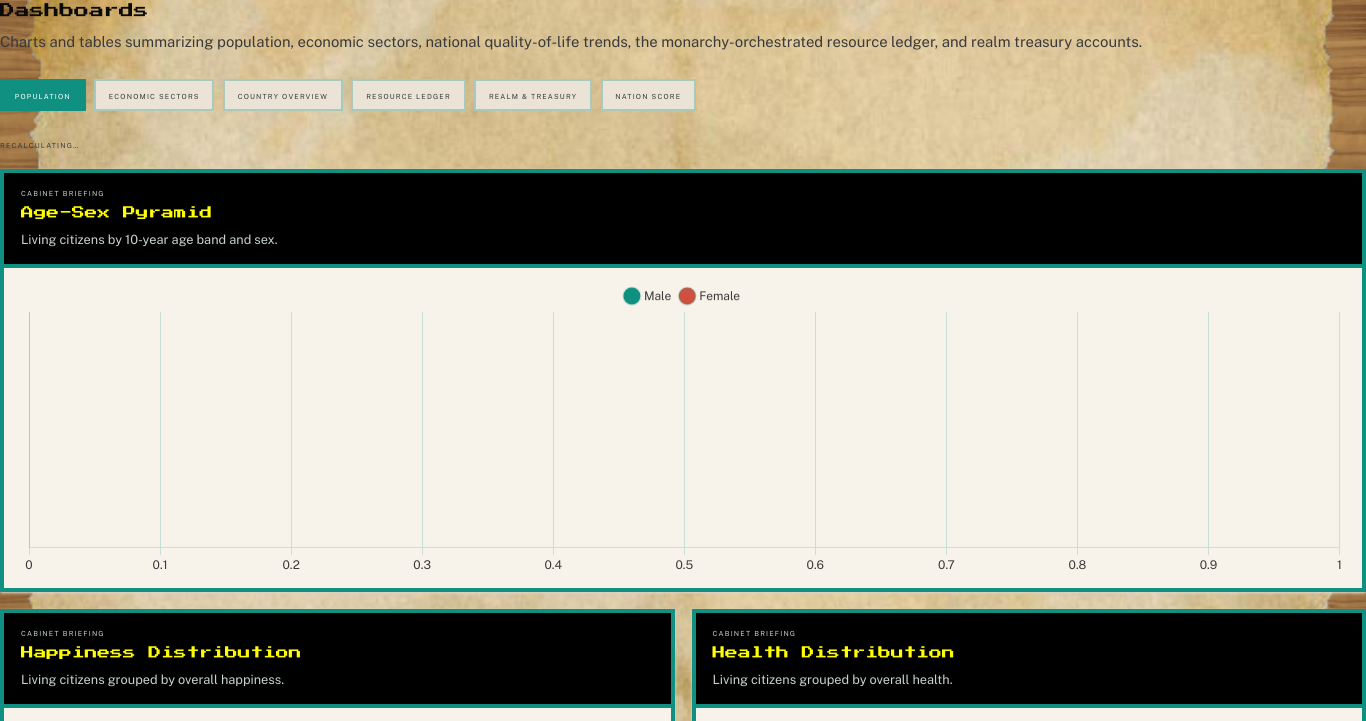
DashboardsPage › switches to the country overview dashboard on tab click
Click the button "Country Overview" at {"x": 283, "y": 95}, box 223,79 -> 343,111
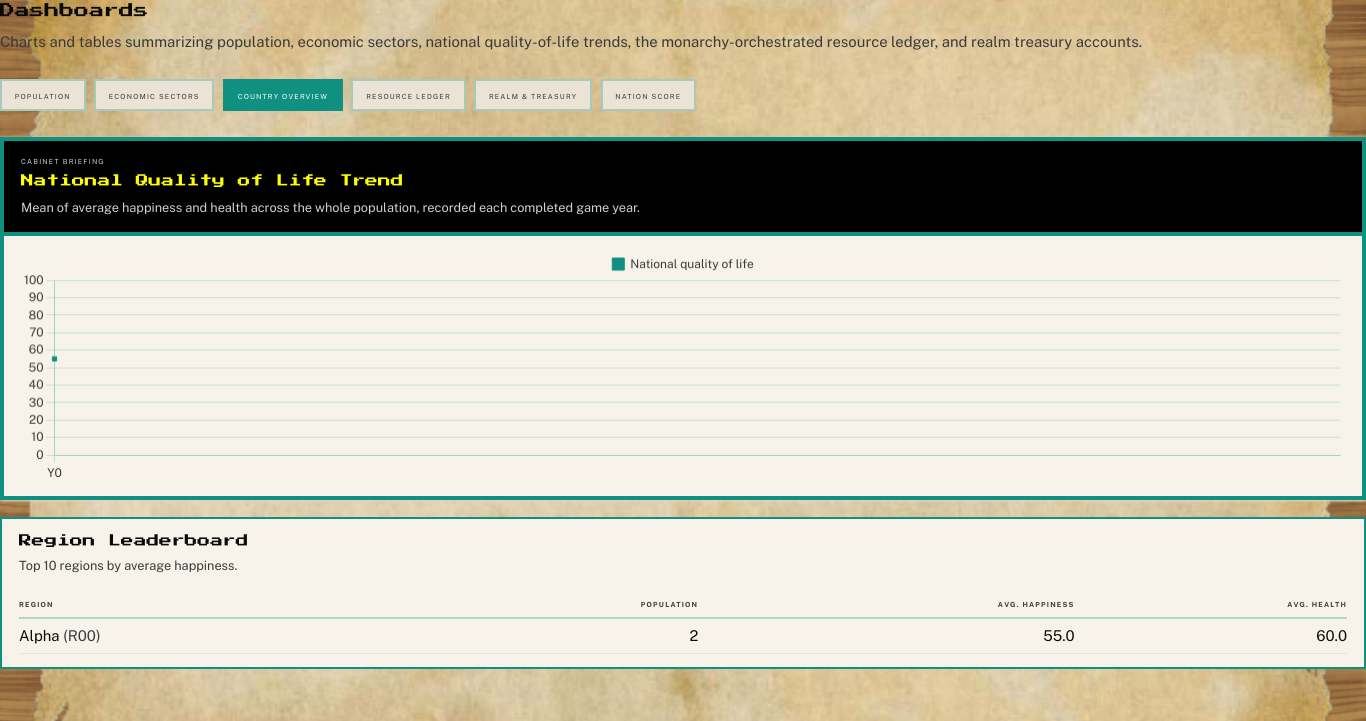
Check: the heading "National Quality of Life Trend" is shown, box 21,174 -> 404,187
Check: the heading "Region Leaderboard" is shown, box 19,534 -> 248,547
